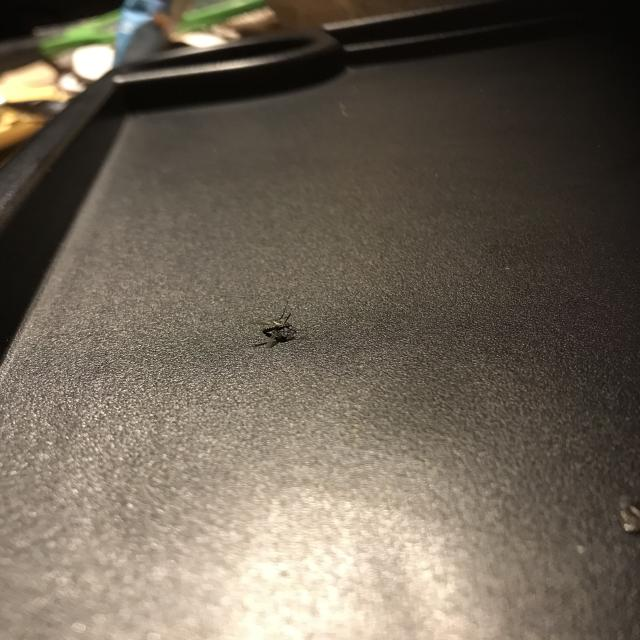albopictus: (245, 298, 312, 358)
